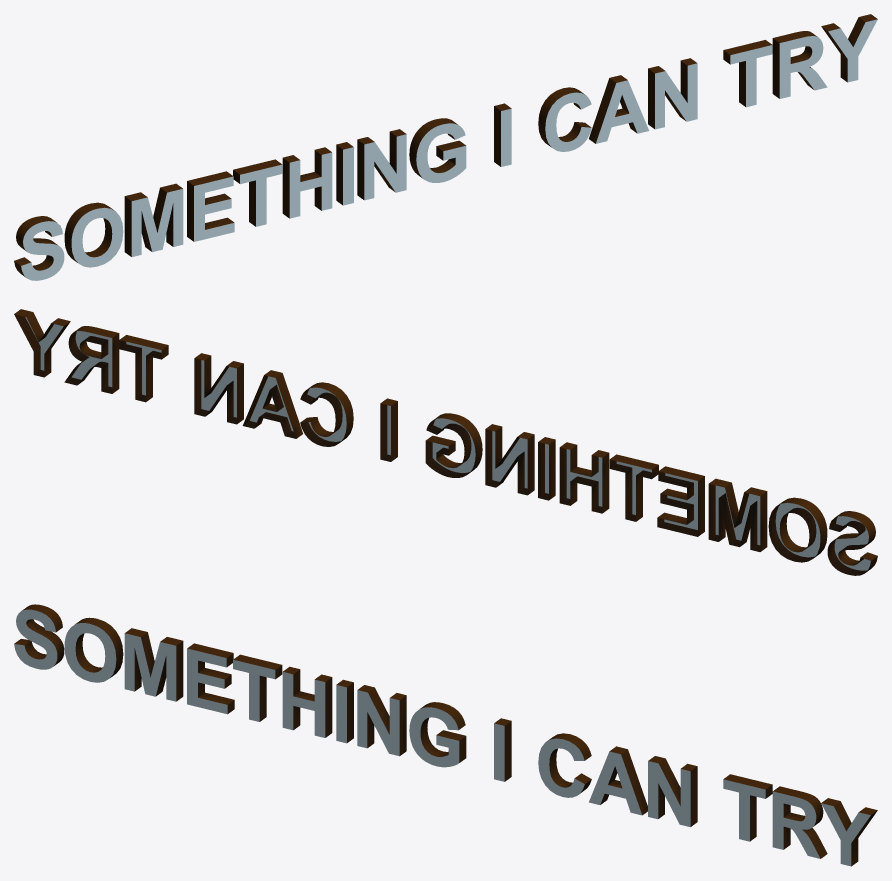
Rendered from Drawer_Label_C.FBX.
The picture shows the model from 3 angles, top to bottom: view 1: azimuth 30°, elevation 25°; view 2: azimuth 150°, elevation 25°; view 3: azimuth 330°, elevation 25°; orthographic projection.
Parts seen in each view (by area): view 1: I_can_try; view 2: I_can_try; view 3: I_can_try.
Part boxes in pixels (left/top/right/bottom): I_can_try: left=14, top=14, right=877, bottom=280; I_can_try: left=14, top=309, right=877, bottom=575; I_can_try: left=14, top=604, right=877, bottom=866.
Size of the model in its own units: 35.42 by 2.29 by 0.5.
